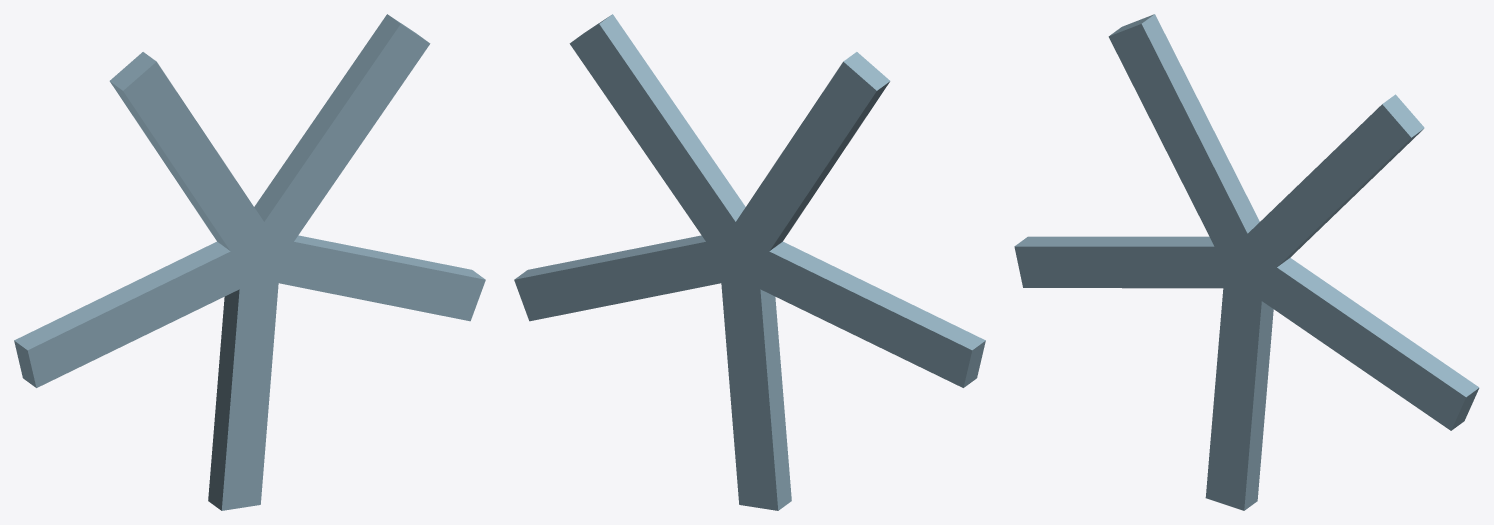
Rendered from ventilador_cpu.obj.
The picture shows the model from 3 angles, left to right: view 1: azimuth 30°, elevation 25°; view 2: azimuth 150°, elevation 25°; view 3: azimuth 330°, elevation 25°; orthographic projection.
Visible parts, largest first — view 1: ventilador_cpu.005, ventilador_cpu.003, ventilador_cpu.002, ventilador_cpu.004, ventilador_cpu.001; view 2: ventilador_cpu.005, ventilador_cpu.003, ventilador_cpu.002, ventilador_cpu.004, ventilador_cpu.001; view 3: ventilador_cpu.001, ventilador_cpu.004, ventilador_cpu.002, ventilador_cpu.003, ventilador_cpu.005.
Part boxes in pixels (x1,y1,x2,y2): ventilador_cpu.005: (247, 14, 430, 260); ventilador_cpu.003: (14, 239, 260, 387); ventilador_cpu.002: (208, 254, 280, 510); ventilador_cpu.004: (109, 52, 277, 271); ventilador_cpu.001: (278, 235, 485, 321); ventilador_cpu.005: (569, 14, 752, 260); ventilador_cpu.003: (734, 239, 985, 387); ventilador_cpu.002: (719, 254, 791, 510); ventilador_cpu.004: (736, 52, 890, 271); ventilador_cpu.001: (514, 235, 721, 321); ventilador_cpu.001: (1245, 251, 1479, 430); ventilador_cpu.004: (1108, 14, 1259, 264); ventilador_cpu.002: (1205, 261, 1273, 510); ventilador_cpu.003: (1014, 236, 1244, 288); ventilador_cpu.005: (1235, 94, 1424, 267).
Bounding box in the file's own units: 0.0584 × 0.0571 × 0.003.
